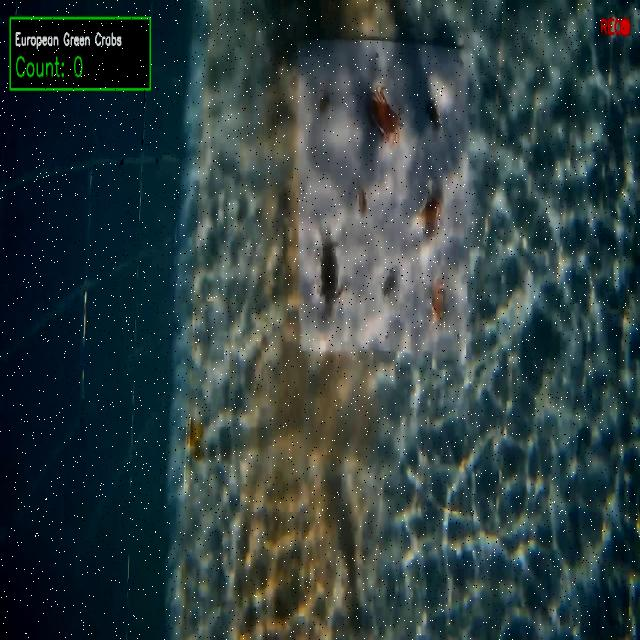European_Green_Crab: (317, 224, 348, 311), (421, 93, 445, 138), (378, 263, 400, 301)
